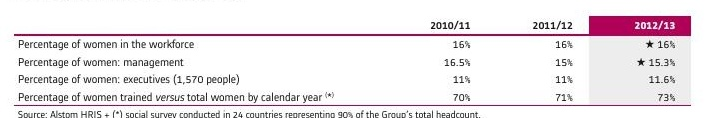table: (0, 0, 709, 118)
